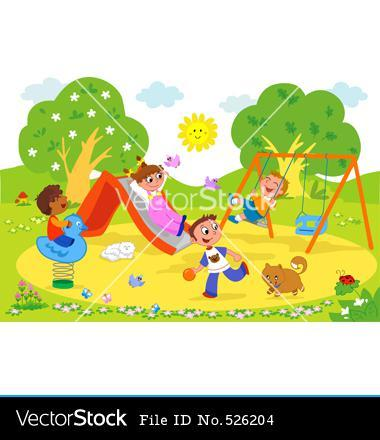bird: (33, 213, 89, 262), (201, 174, 221, 192), (126, 272, 147, 289), (162, 154, 182, 171)
dog: (258, 257, 310, 296)
person: (116, 155, 189, 236), (185, 218, 250, 297), (225, 169, 289, 224), (33, 182, 77, 250)
